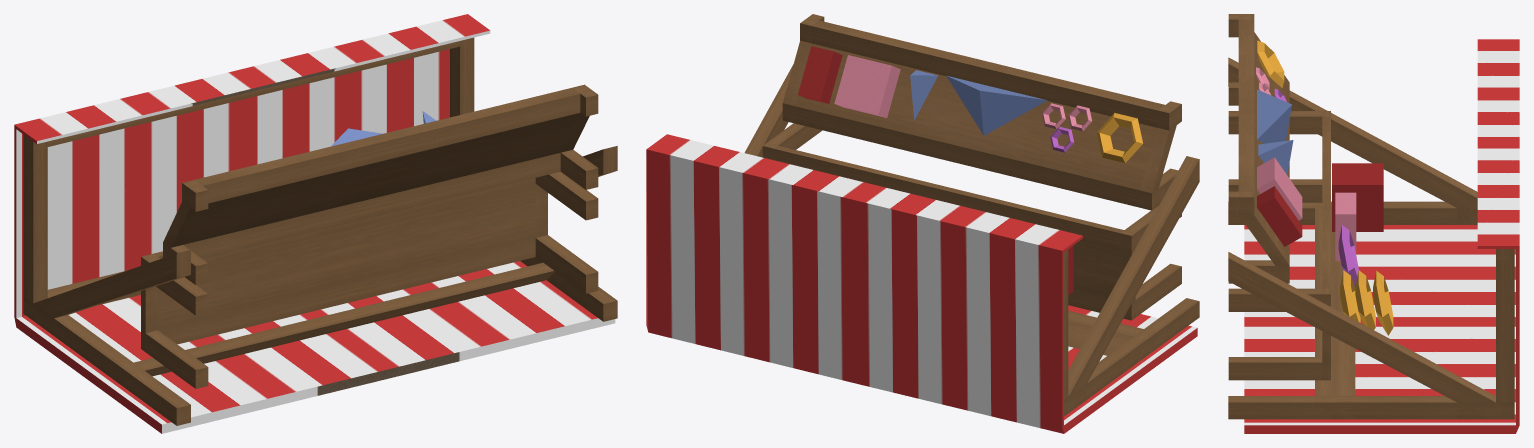
File: all_share_store_1.FBX
The picture shows the model from 3 angles, left to right: view 1: azimuth 30°, elevation 25°; view 2: azimuth 150°, elevation 25°; view 3: azimuth 270°, elevation 25°; orthographic projection. The views are drawn at different scales.
Parts seen in each view (by area): view 1: Cube.018; view 2: Cube.018; view 3: Cube.018.
Part boxes in pixels (bbox=[...]): Cube.018: bbox=[14, 14, 617, 433]; Cube.018: bbox=[646, 14, 1199, 433]; Cube.018: bbox=[1228, 14, 1519, 433].
Size of the model in its own units: 252 by 128 by 150.
